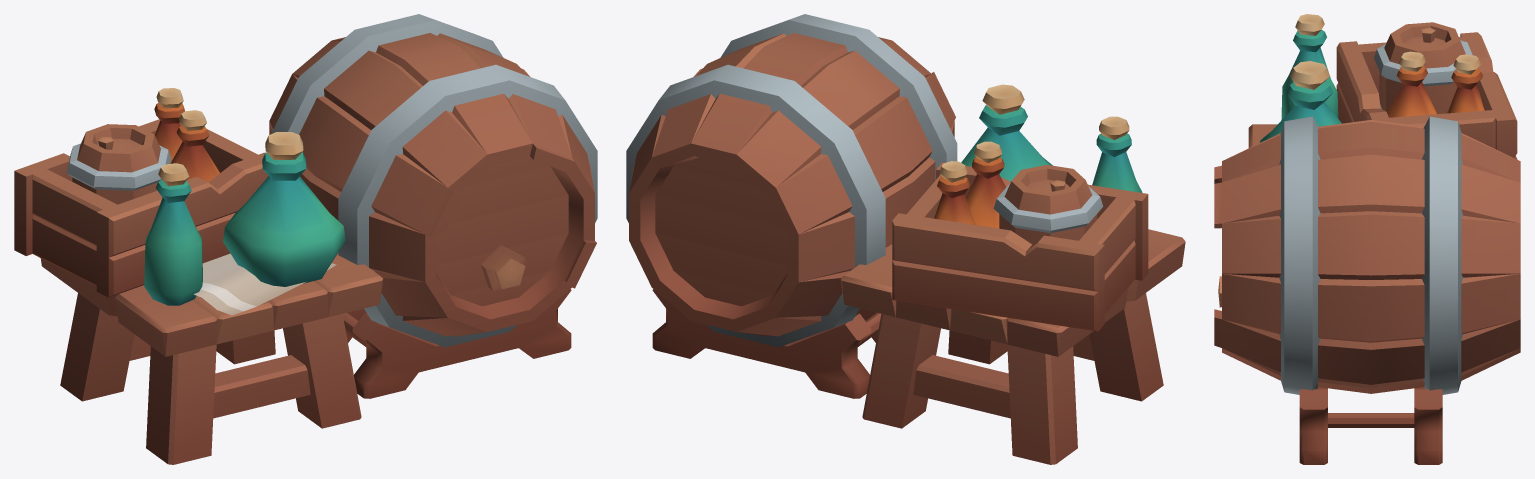
Rendered from keg_decorated.glb.
3 views of the same model, side by side, from view 1: azimuth 30°, elevation 25°; view 2: azimuth 150°, elevation 25°; view 3: azimuth 270°, elevation 25° (orthographic). The views are drawn at different scales.
Visible parts, largest first — view 1: keg_decorated; view 2: keg_decorated; view 3: keg_decorated.
Part boxes in pixels (<box>): keg_decorated: <box>14,14,597,464</box>; keg_decorated: <box>626,14,1185,464</box>; keg_decorated: <box>1214,14,1520,464</box>.
Size of the model in its own units: 3.52 by 2.05 by 2.
Materials: 1 (1 with a texture image).
